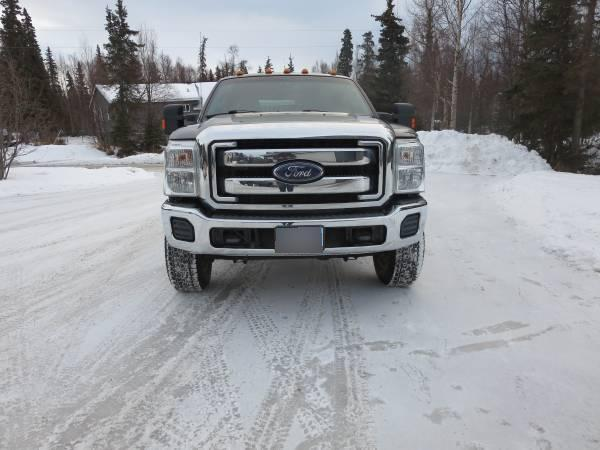Front_Bumper: (163, 193, 429, 255), (373, 234, 425, 288), (165, 237, 214, 293)
Front_Windshield: (199, 75, 376, 121)
Grille: (199, 138, 397, 211)
Hood: (169, 111, 415, 141)
Left_Headlight: (393, 138, 424, 194)
Left_Mirror: (393, 102, 415, 131)
Right_Headlight: (165, 140, 200, 201)
Right_Mirror: (159, 103, 182, 135)
